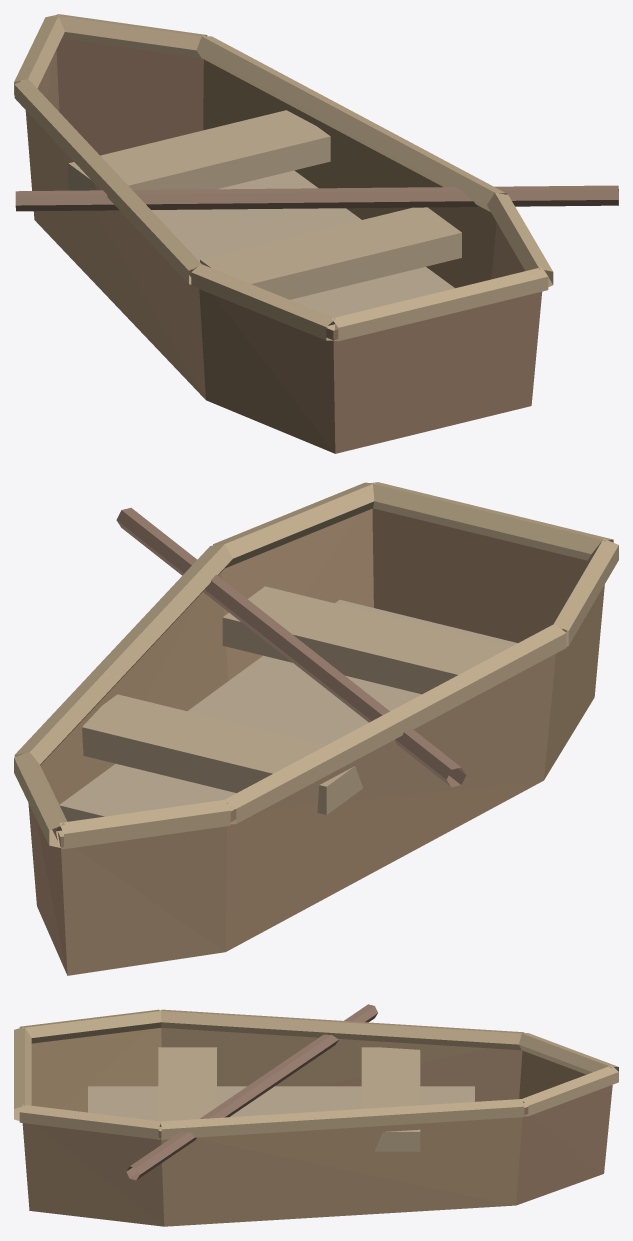
3 views of the same model, one above another, from view 1: azimuth 30°, elevation 25°; view 2: azimuth 150°, elevation 25°; view 3: azimuth 270°, elevation 25° (orthographic). The views are drawn at different scales.
Visible parts, largest first — view 1: H05; view 2: H05; view 3: H05.
Boxes of the visible parts, x1,y1,x2,y2 form: H05: [14, 14, 618, 453]; H05: [14, 482, 618, 975]; H05: [14, 1004, 618, 1226].
Bounding box in the file's own units: 1.04 × 0.3038 × 1.55.
